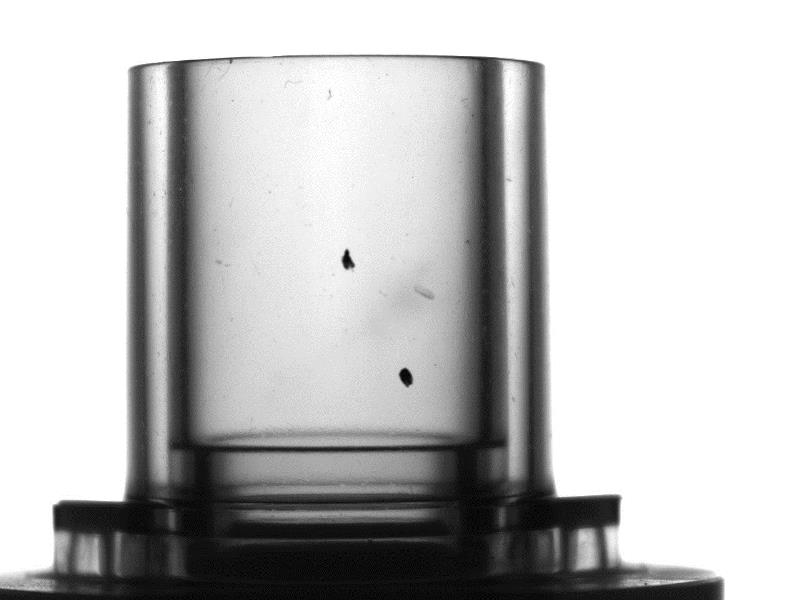blackdot: (340, 246, 355, 270), (399, 365, 414, 387)
